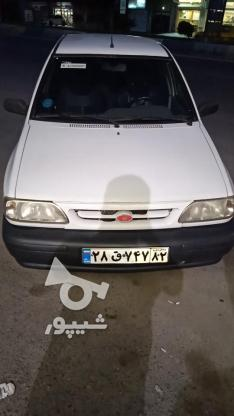car: (82, 246, 169, 264)
